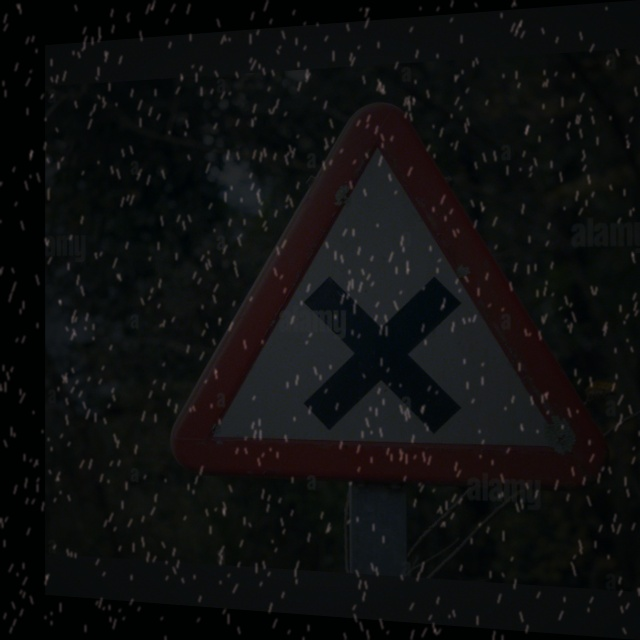Cross_Road: (177, 89, 605, 489)
